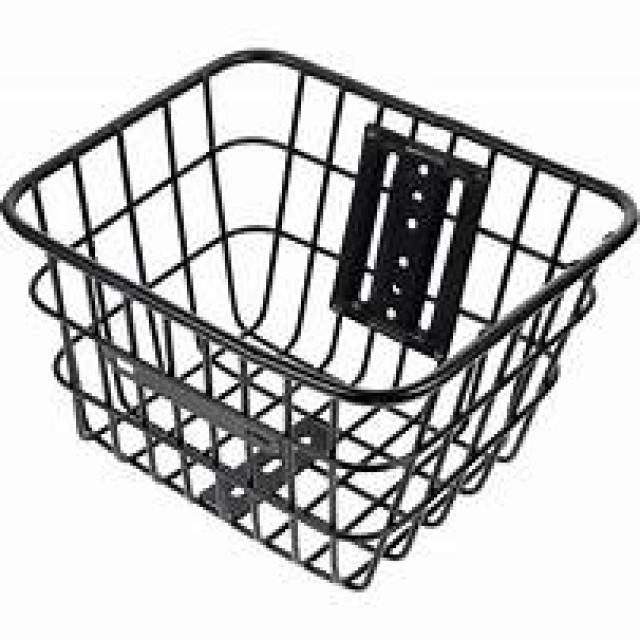basket: (3, 49, 640, 593)
